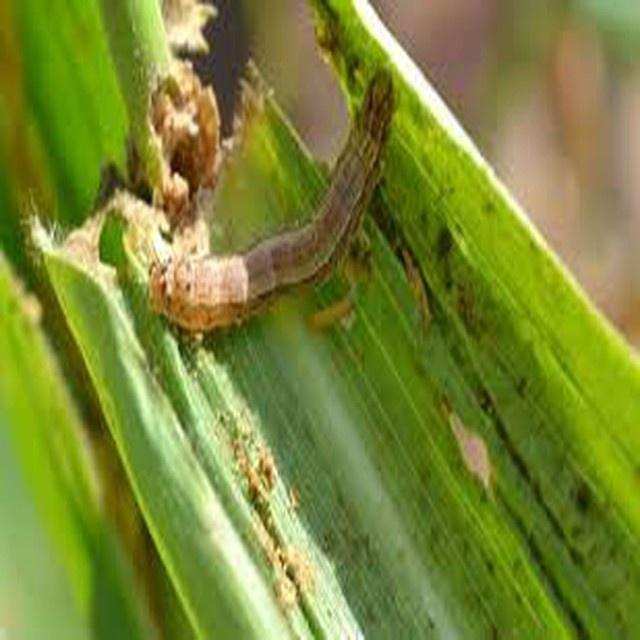gusano_cogollero: (140, 75, 390, 330)
